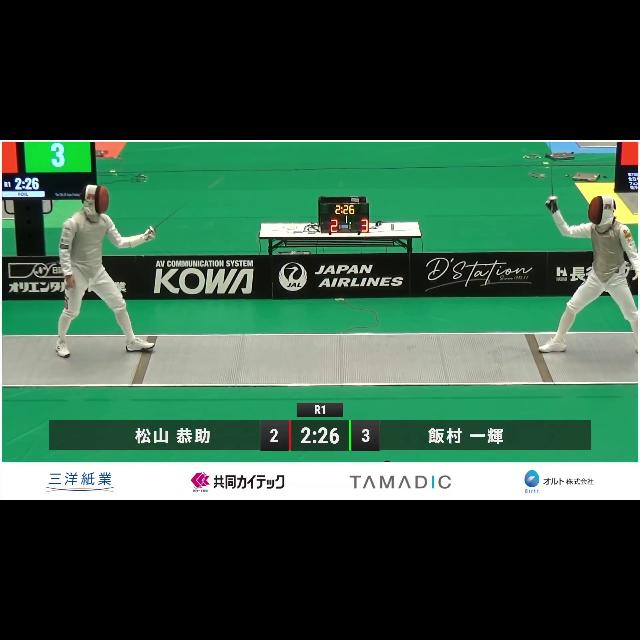blade: (144, 173, 230, 241), (542, 140, 560, 212)
